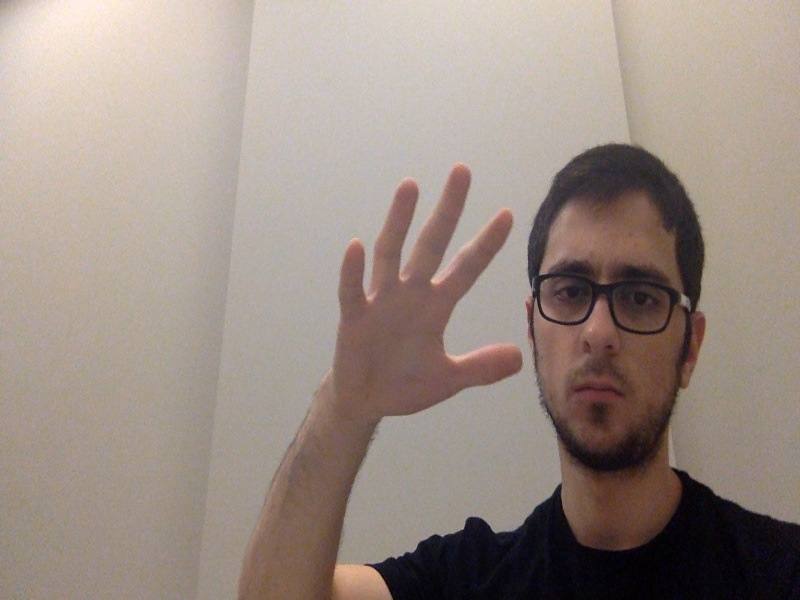5-hand: (333, 163, 526, 427)
